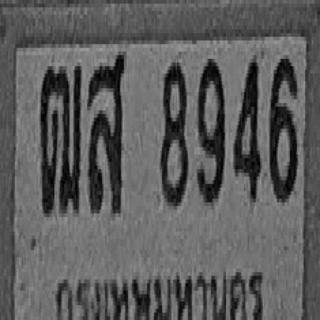A18: (39, 63, 82, 213)
A40: (88, 52, 125, 213)
N04: (233, 57, 260, 200)
N06: (268, 57, 297, 200)
N08: (159, 59, 188, 206)
N09: (196, 57, 225, 204)
